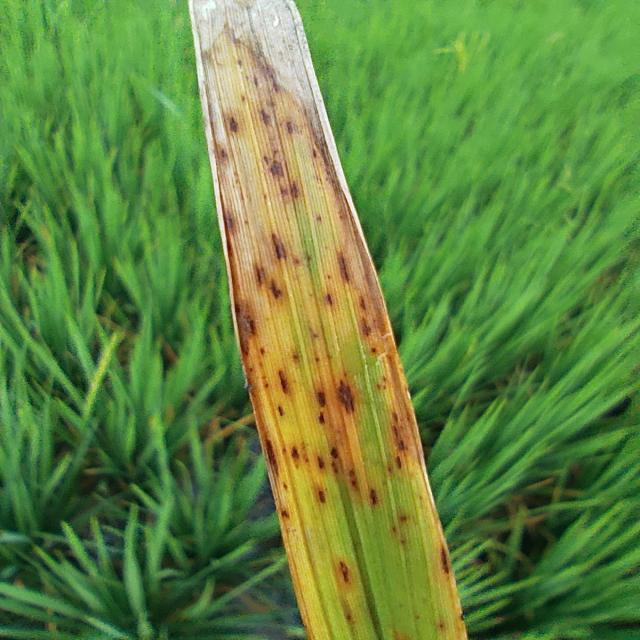Narrow_Brown_Leaf_Spot: (188, 3, 469, 618)
